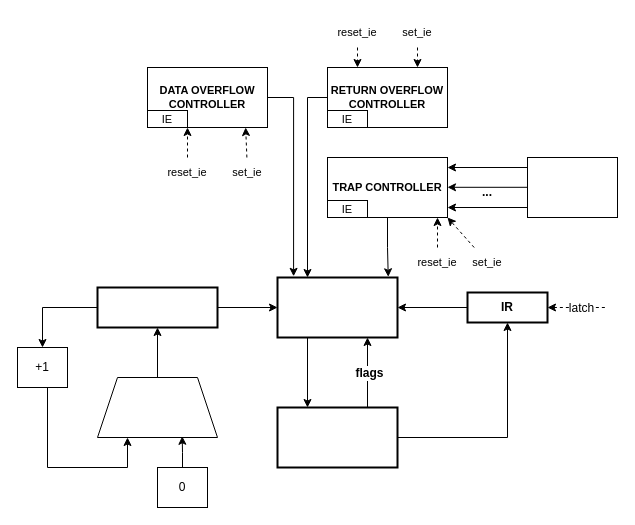
Image size: 635x525. Some labels were removed from this diagram. The centre of each missing label's shape, as x and y in pixels:
"CONTROL LOGIC" belongs at (337,307).
"DATA PATH" belongs at (337,437).
"IO DEVICES" belongs at (572,187).
"MUX" belongs at (157,407).
"STEP COUNTER" belongs at (157,307).
